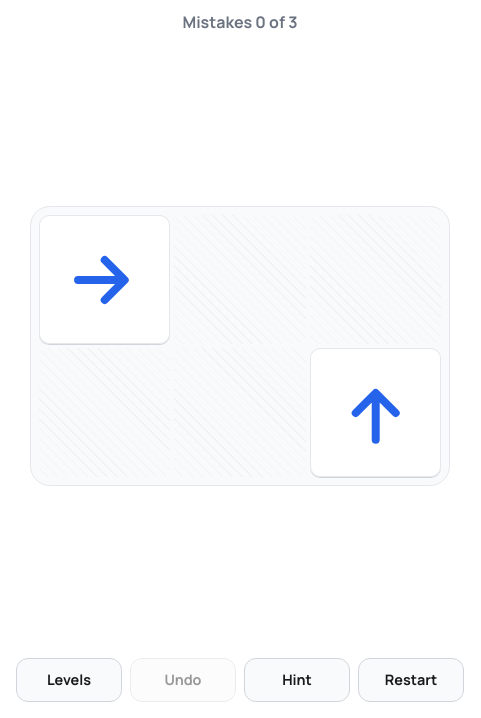
Test: PlayScreen: tapping › undo puts a slid arrow back on the board
Click the button named "Arrow pointing right" at x=105, y=280, box [39,215,170,344]
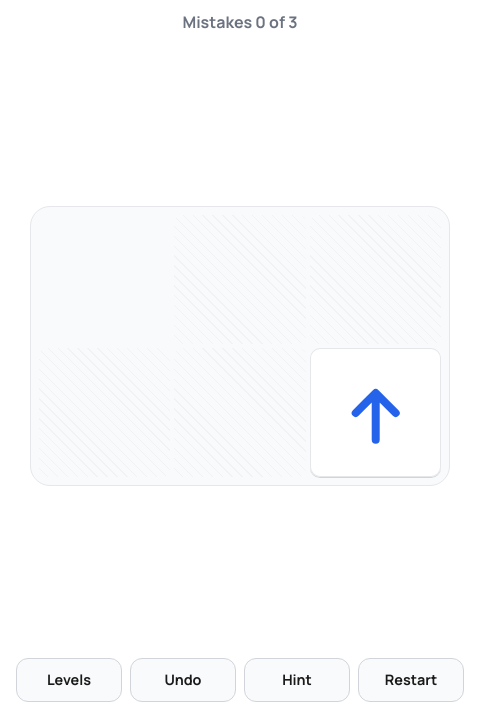
Click the button "Undo" at x=183, y=680, box [130,658,236,702]
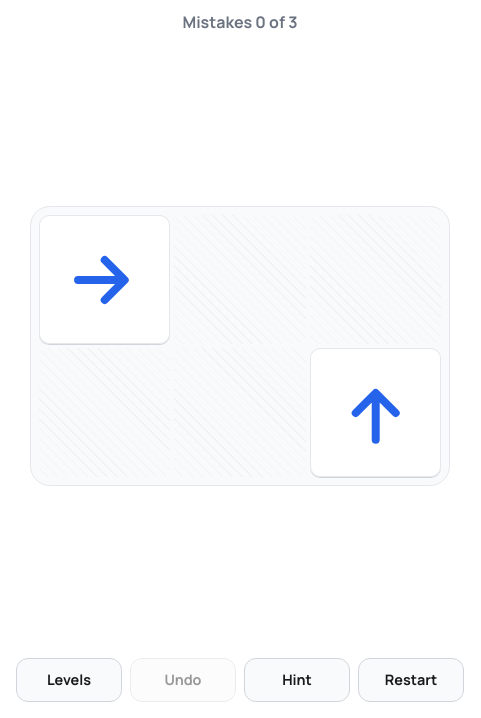
Expected: the button named "Arrow pointing right" is shown, [39,215,170,344]
